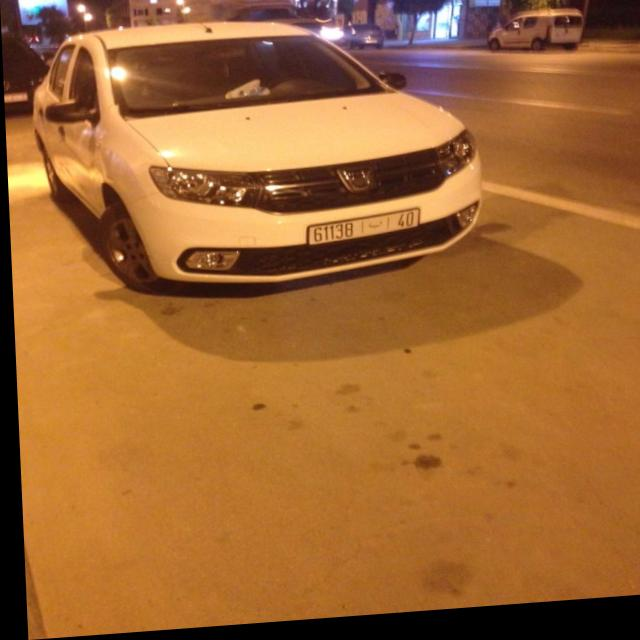License-Plate: (305, 216, 417, 249)
